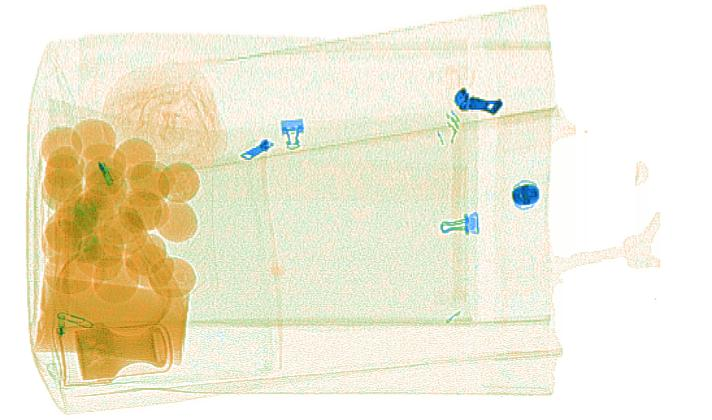seal: (73, 323, 171, 384)
